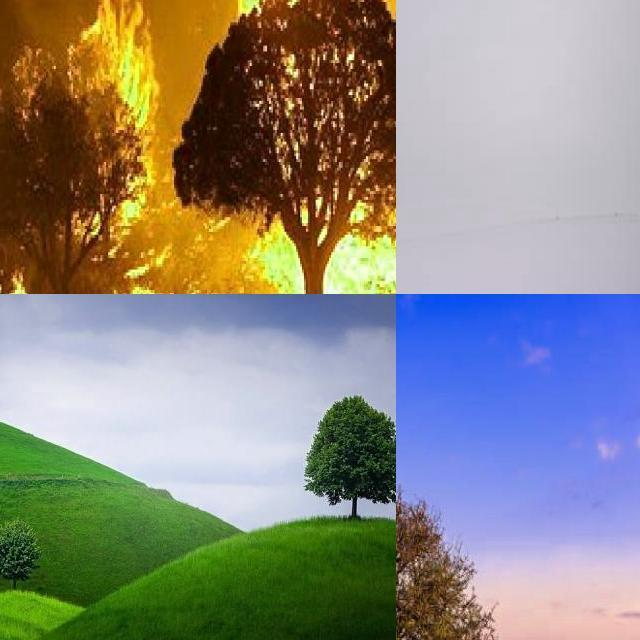tree: (172, 0, 396, 294), (0, 84, 142, 294), (395, 475, 516, 640), (296, 392, 396, 524), (396, 116, 424, 274), (1, 323, 44, 413), (0, 516, 44, 588)
